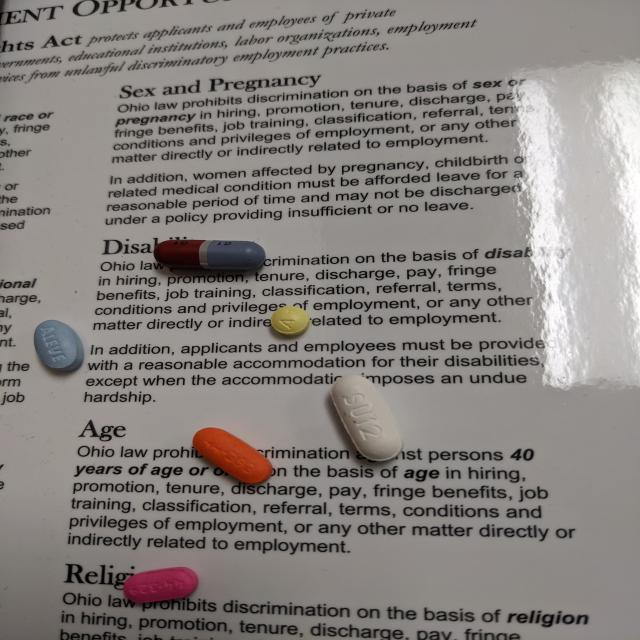non-organic waste: (330, 375, 406, 463), (192, 426, 273, 484), (152, 238, 268, 272), (122, 565, 200, 604), (33, 318, 85, 373), (269, 305, 311, 338)
